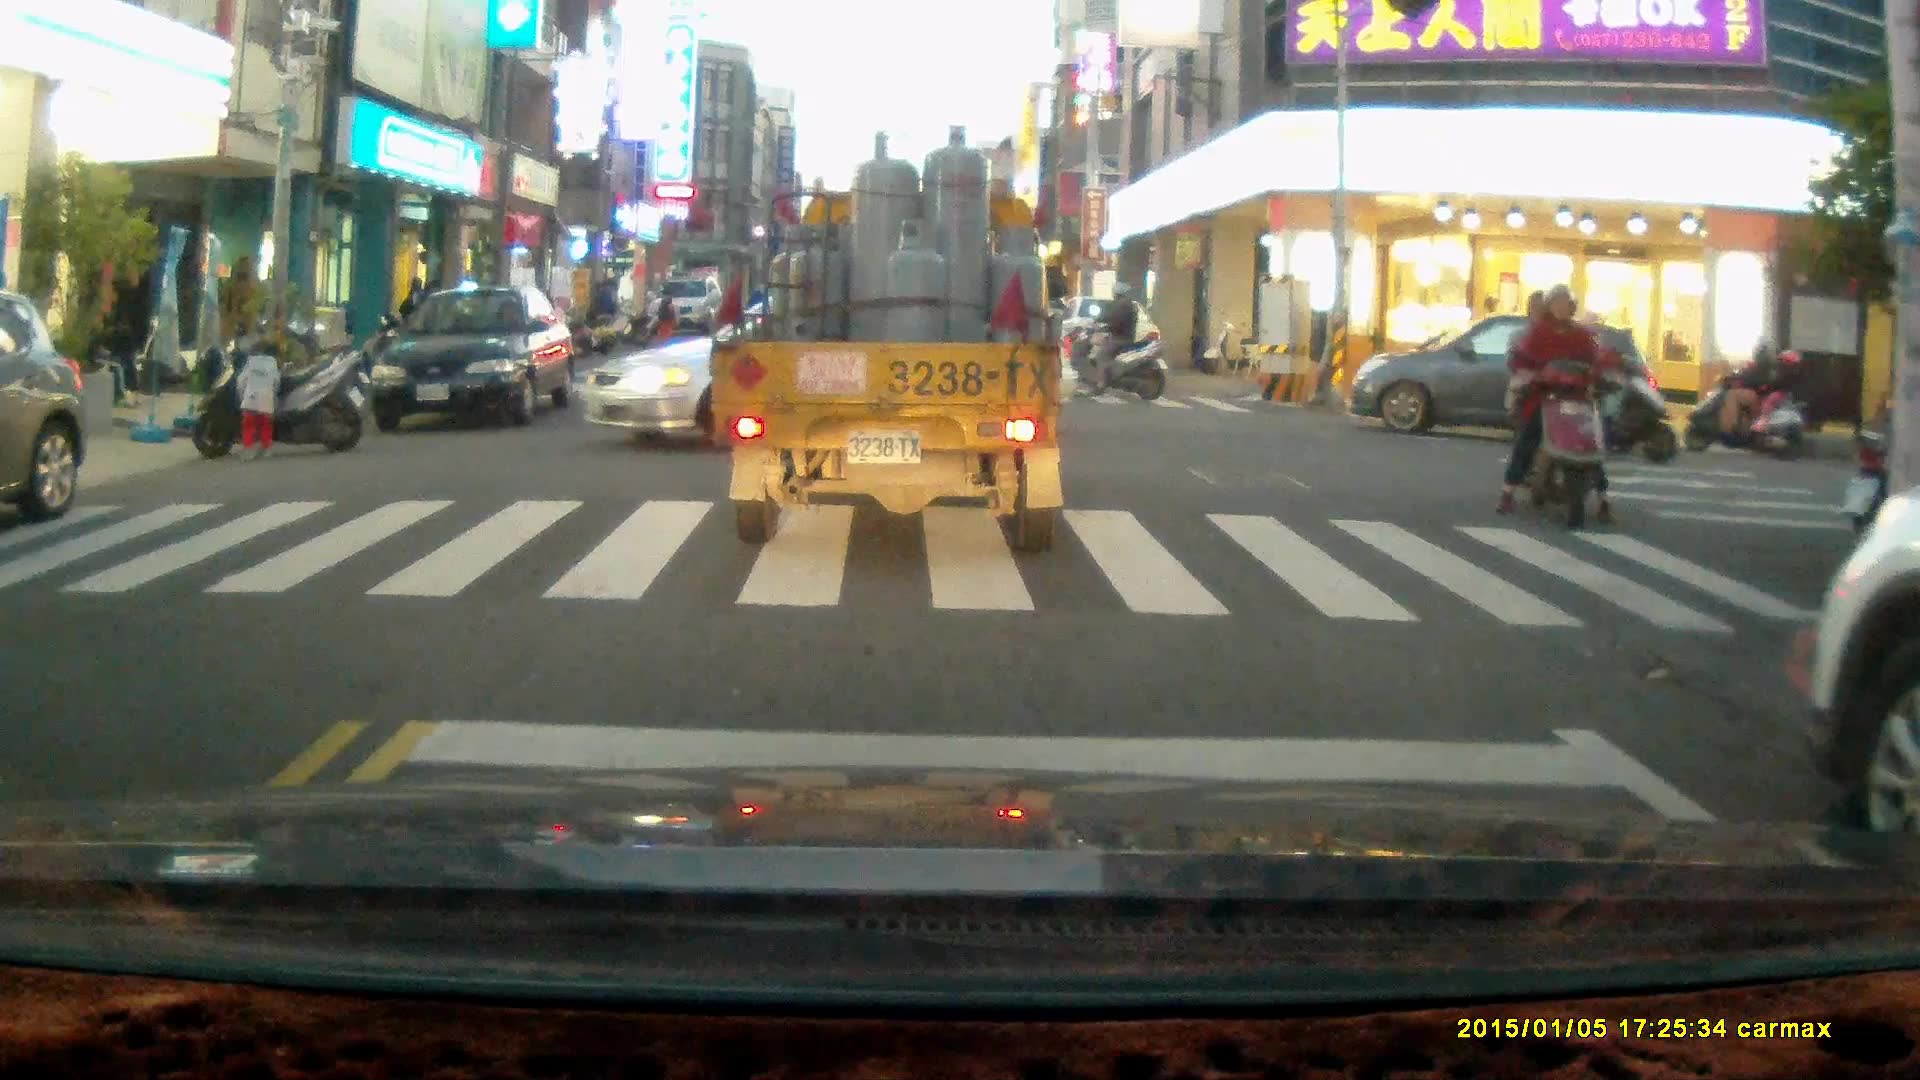pedestrian: (234, 339, 286, 463), (595, 277, 622, 339), (656, 285, 680, 343)
rider: (1493, 285, 1614, 530), (1534, 307, 1678, 461), (1687, 337, 1802, 459), (1073, 282, 1168, 403)
vehicle: (710, 124, 1066, 548), (576, 283, 1071, 446), (1342, 313, 1656, 467), (1811, 487, 1920, 890), (362, 287, 578, 434), (1066, 297, 1168, 383), (651, 278, 728, 334)
